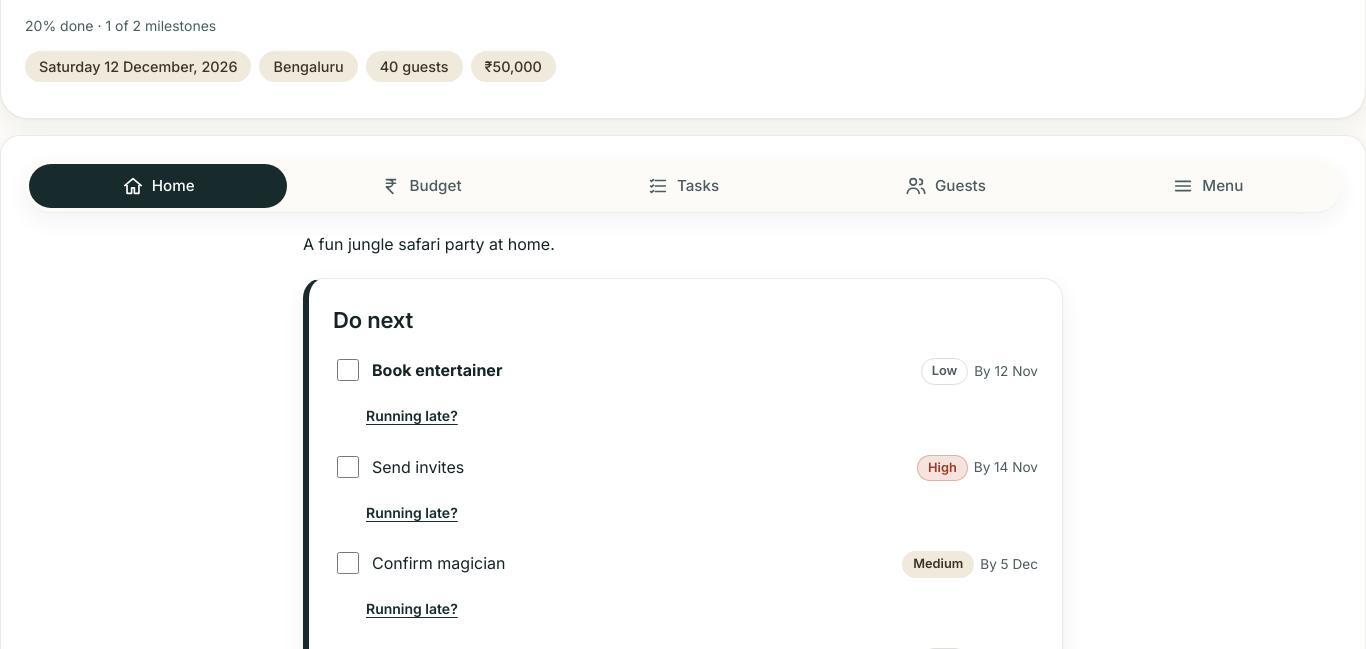
Test: Over budget choices › asks how much to save when nothing is over, and checks the amount
Click the button "Budget" at (421, 186), box [291,164,550,208]
(page scrolled)
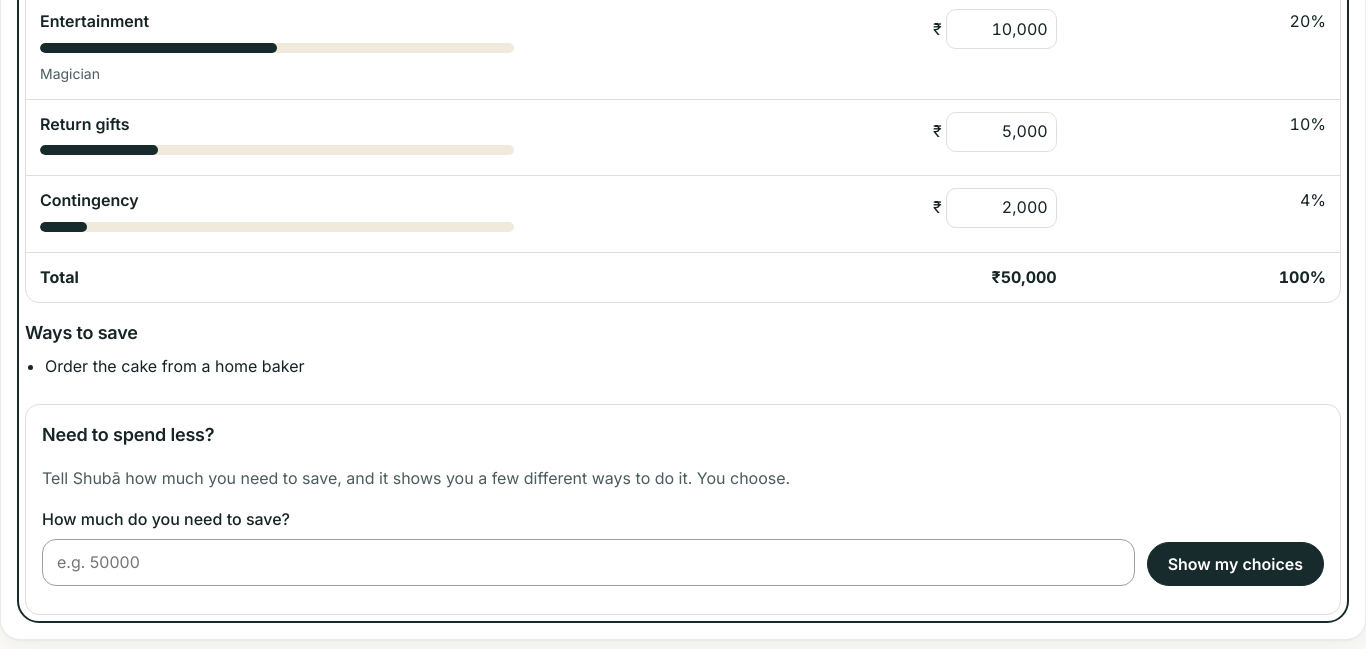
expect the heading "Need to spend less?" is shown: met, box [42,424,214,445]
Click the button "Show my choices" at (1235, 564), box [1147,542,1324,586]
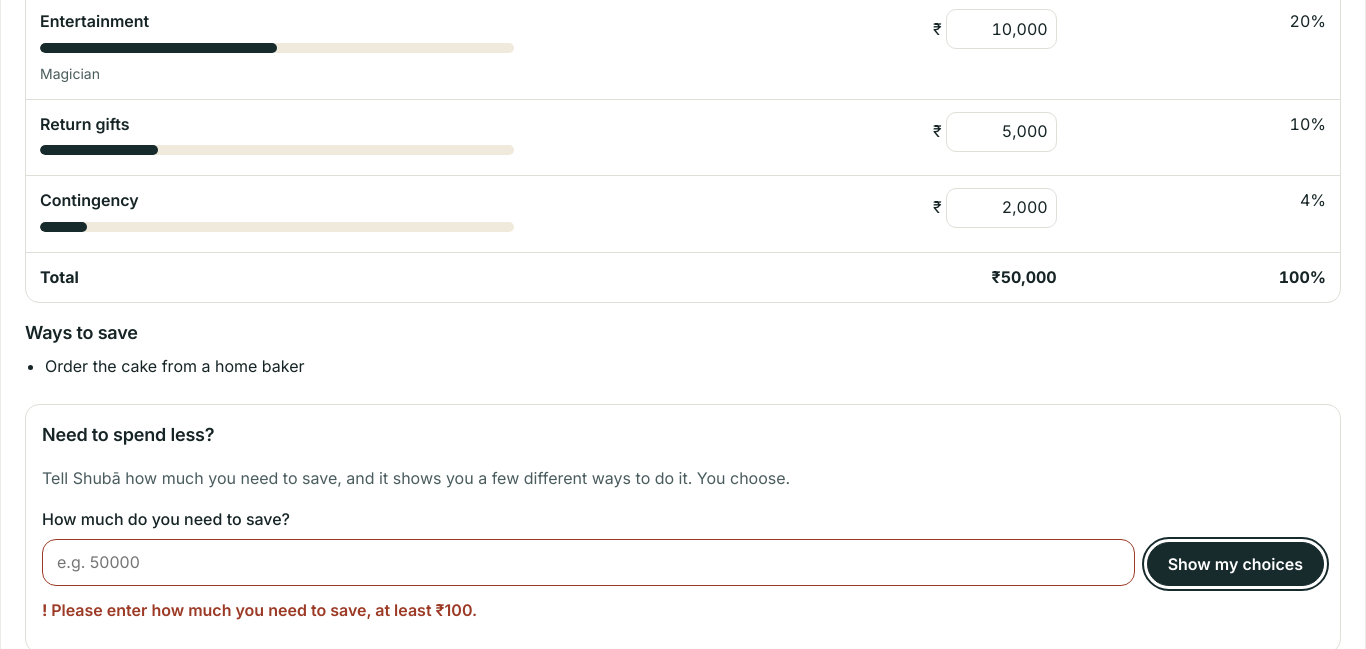
expect the message shows "at least ₹100": met, box [51,600,477,620]
Type "90000" into the field labelled "How much do you need to save?" at (588, 562), box [42,539,1135,586]
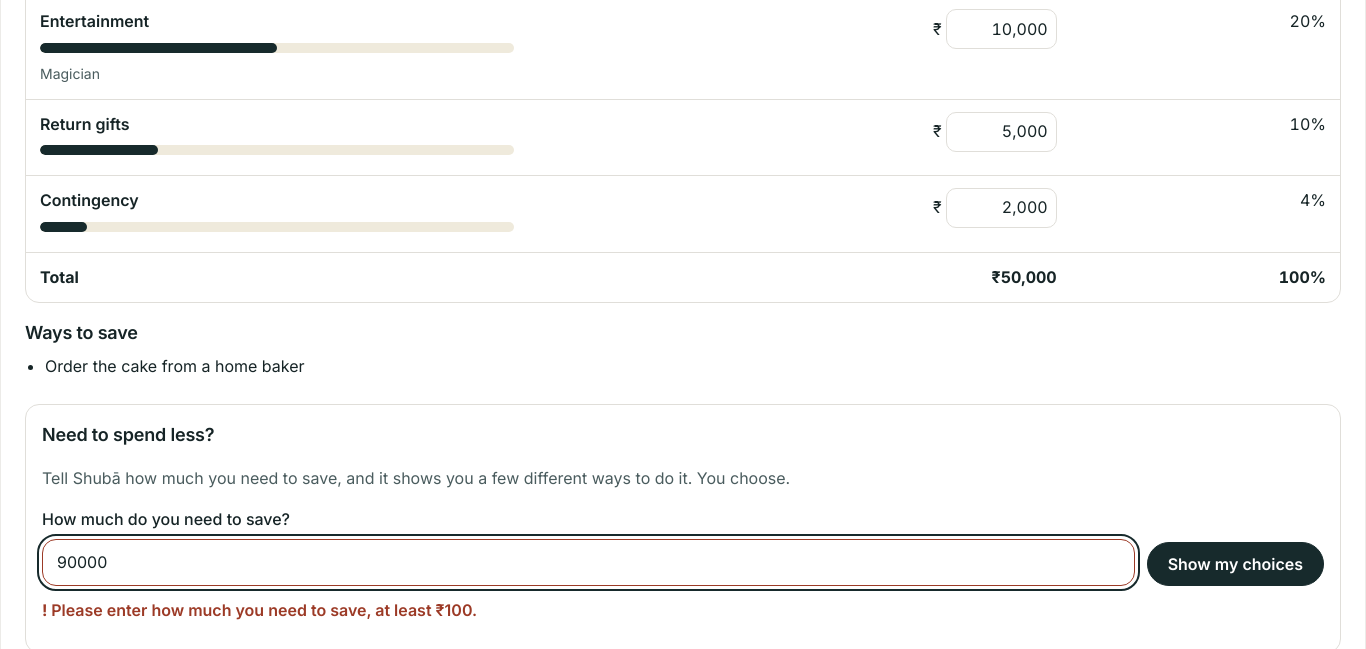
Click the button "Show my choices" at (1235, 564), box [1147,542,1324,586]
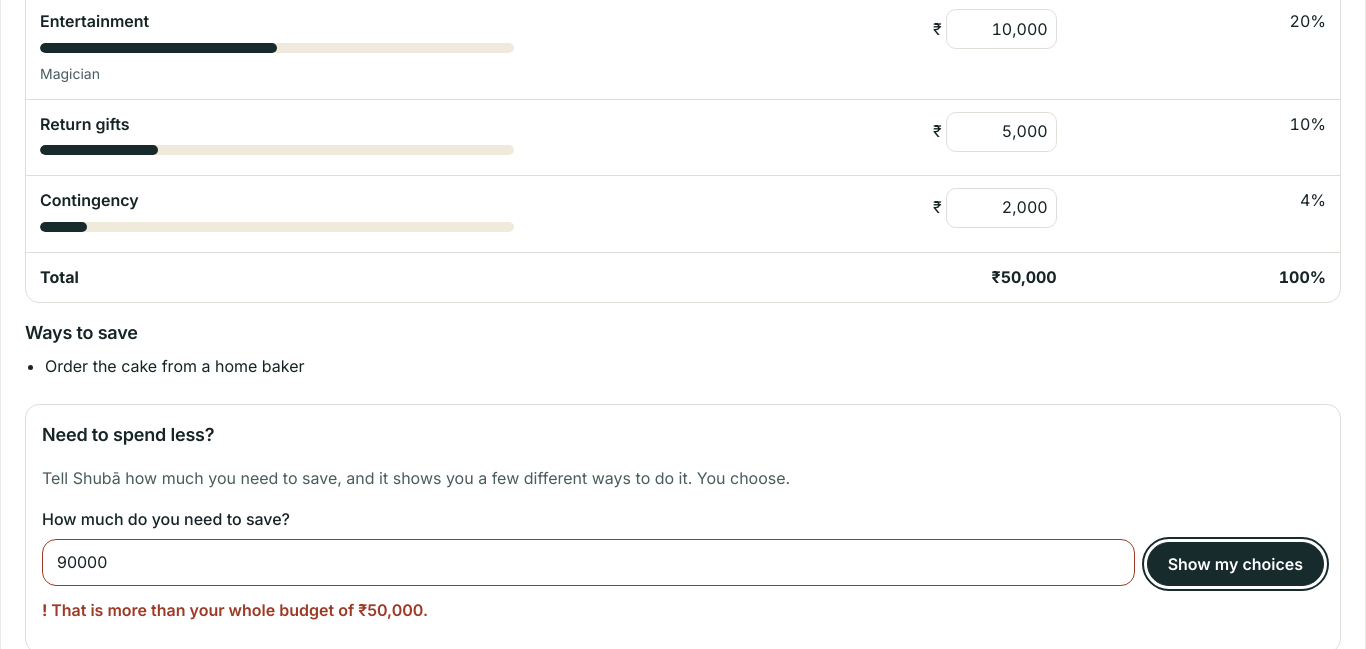
expect the message shows "more than your whole budget": met, box [51,600,428,620]
Replace the text in the field labelled "How much do you need to save?" with "₹10,000" at (588, 562), box [42,539,1135,586]
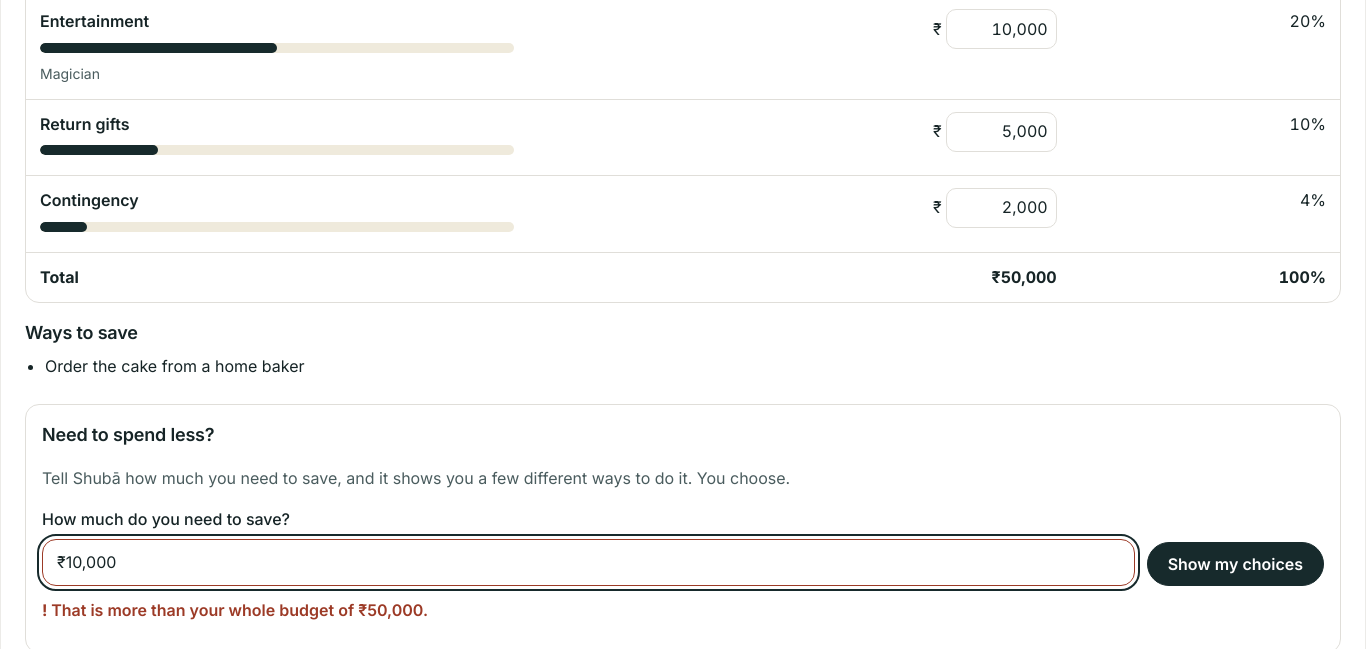
Click the button "Show my choices" at (1235, 564), box [1147,542,1324,586]
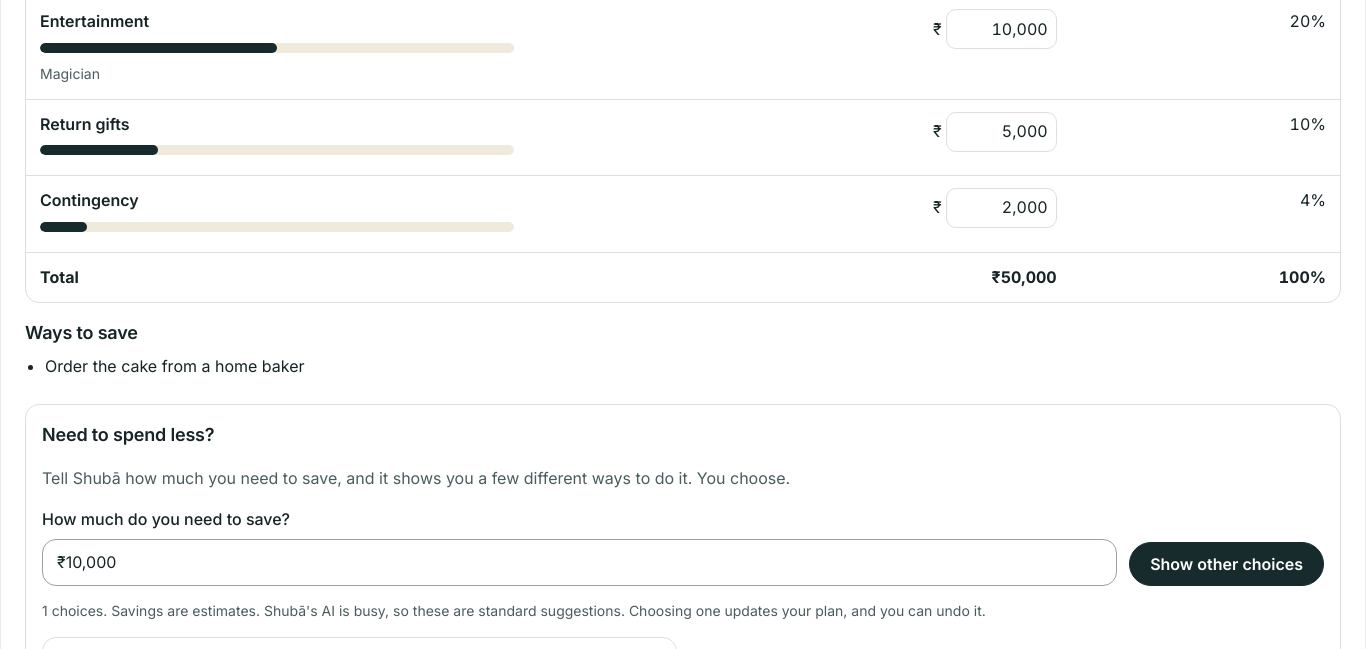
expect the text "standard suggestions" is shown: met, box [260,602,625,619]
